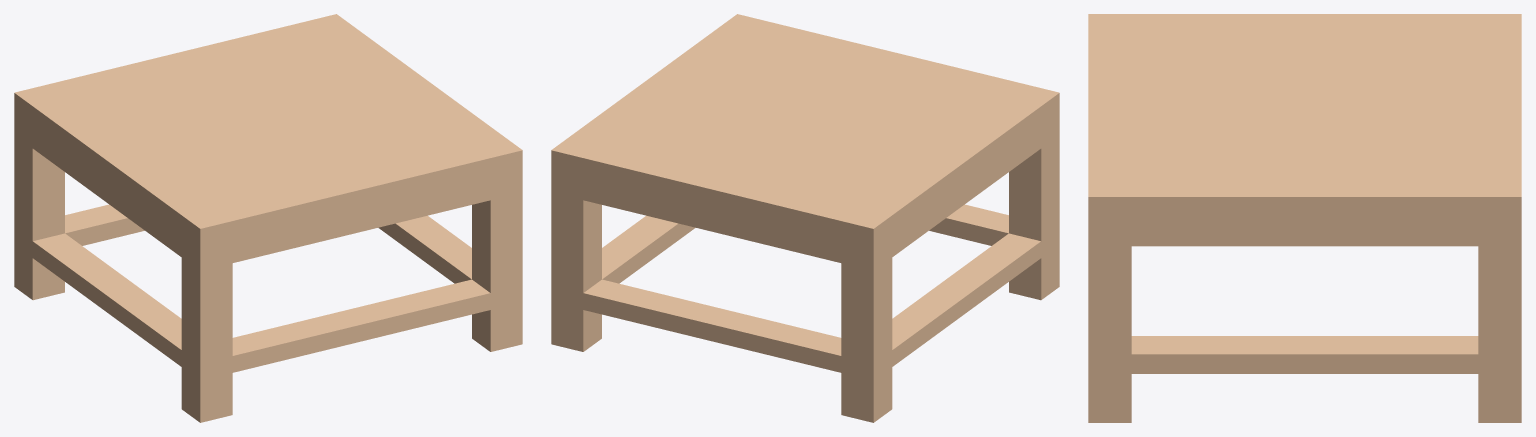
Rendered from tableCoffeeSquare.glb.
The picture shows the model from 3 angles, left to right: view 1: azimuth 30°, elevation 25°; view 2: azimuth 150°, elevation 25°; view 3: azimuth 270°, elevation 25°; orthographic projection. The views are drawn at different scales.
Parts seen in each view (by area): view 1: tableCoffeeSquare(Clone); view 2: tableCoffeeSquare(Clone); view 3: tableCoffeeSquare(Clone).
Part boxes in pixels (x1=…): tableCoffeeSquare(Clone): x1=14, y1=14, x2=522, y2=422; tableCoffeeSquare(Clone): x1=551, y1=14, x2=1059, y2=422; tableCoffeeSquare(Clone): x1=1088, y1=14, x2=1521, y2=422.
Bounding box in the file's own units: 0.812 × 0.4669 × 0.812.
Materials: 1 (1 with a texture image).
